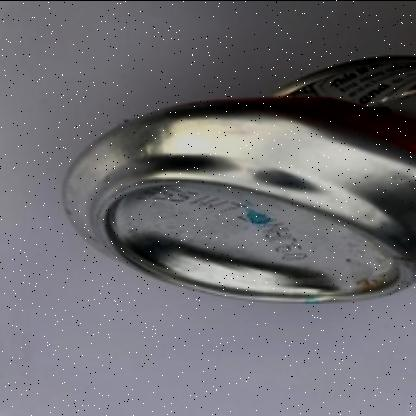Can: (60, 53, 416, 301)
